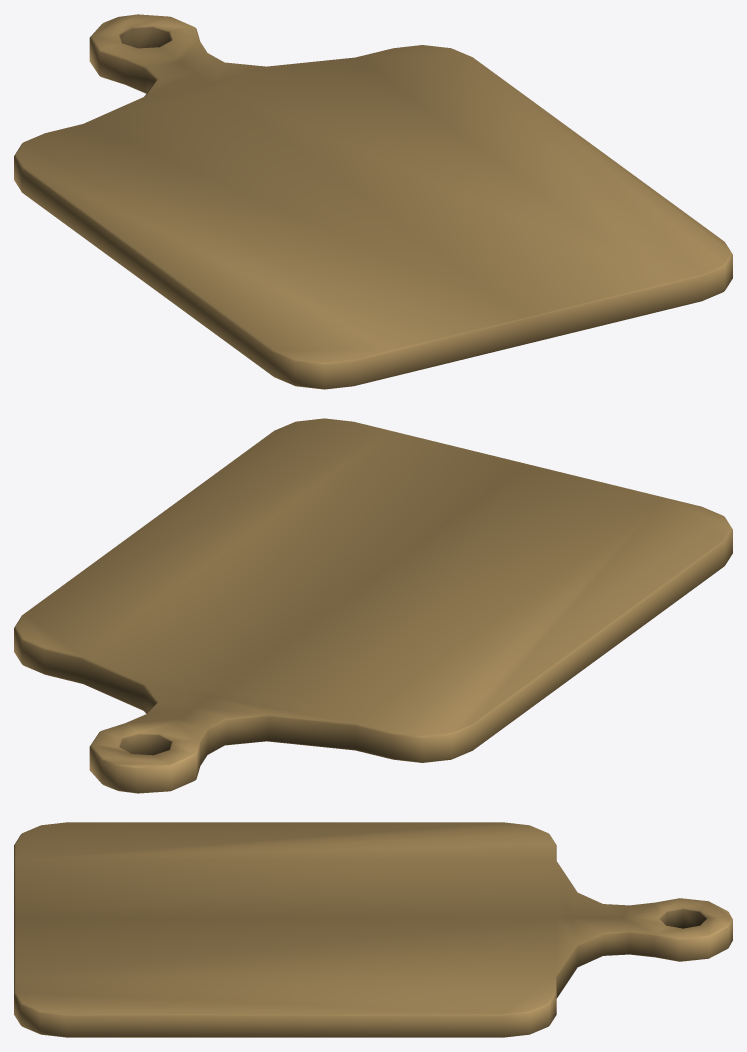
File: CutBoard-04.fbx
3 renders of one model, top to bottom at view 1: azimuth 30°, elevation 25°; view 2: azimuth 150°, elevation 25°; view 3: azimuth 270°, elevation 25°, orthographic. The views are drawn at different scales.
Visible parts, largest first — view 1: CutBoard-04; view 2: CutBoard-04; view 3: CutBoard-04.
Boxes of the visible parts, x1,y1,x2,y2 form: CutBoard-04: (14, 14, 732, 389); CutBoard-04: (14, 418, 732, 793); CutBoard-04: (14, 822, 732, 1037).
Bounding box in the file's own units: 1124 × 64.72 × 1770.
